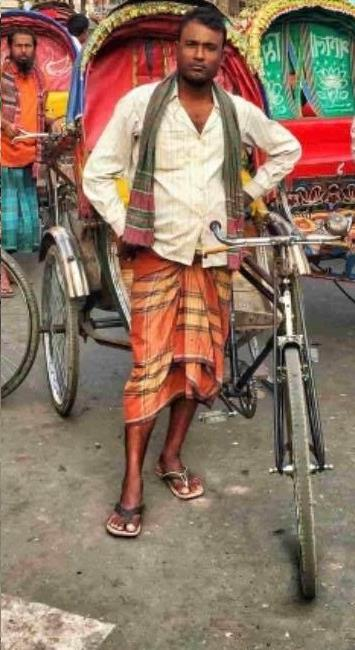Rickshaw: (63, 2, 343, 565), (232, 2, 353, 293), (1, 1, 79, 277)
